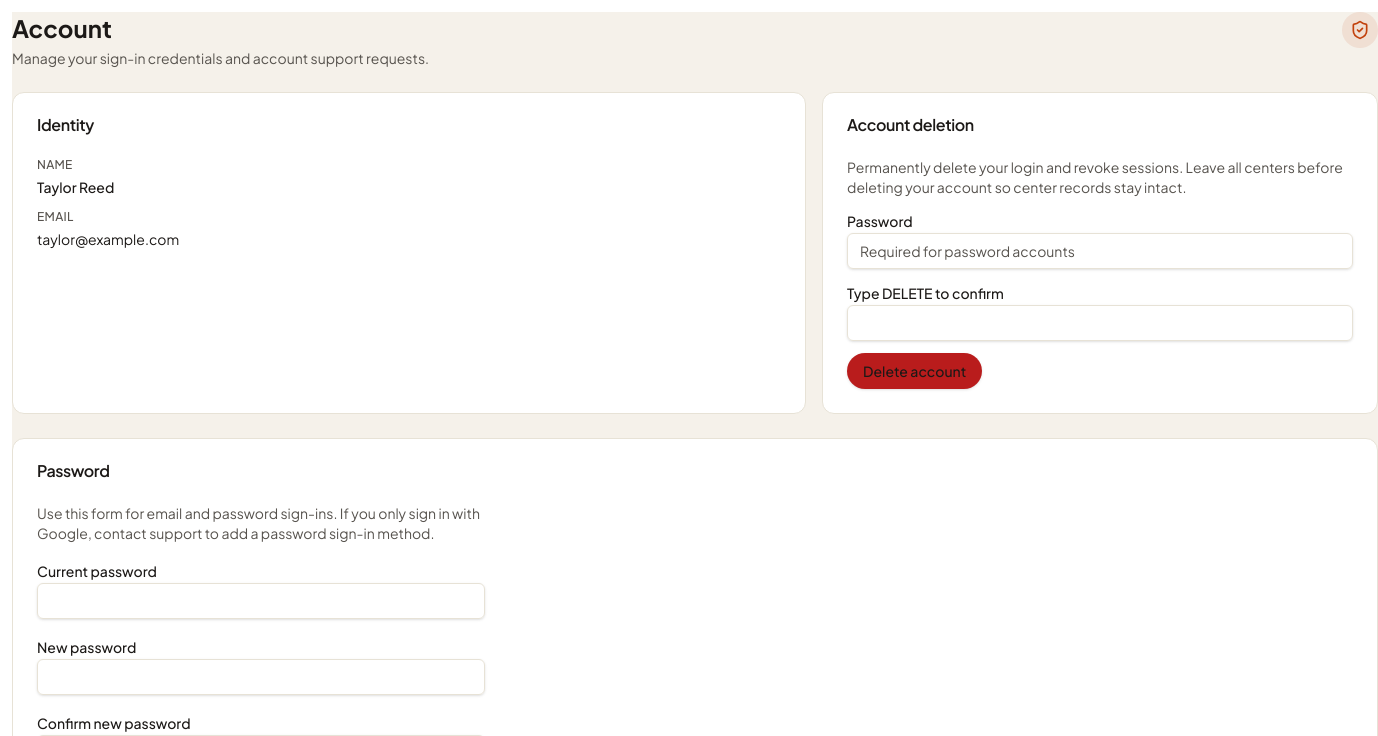
Test: AccountPage › shows account deletion failures near the deletion form
The width and height of the screenshot is (1378, 736).
Step 1. Type "DELETE" into the field labelled "Type DELETE to confirm" → (1100, 323), box [847,305,1353,341]
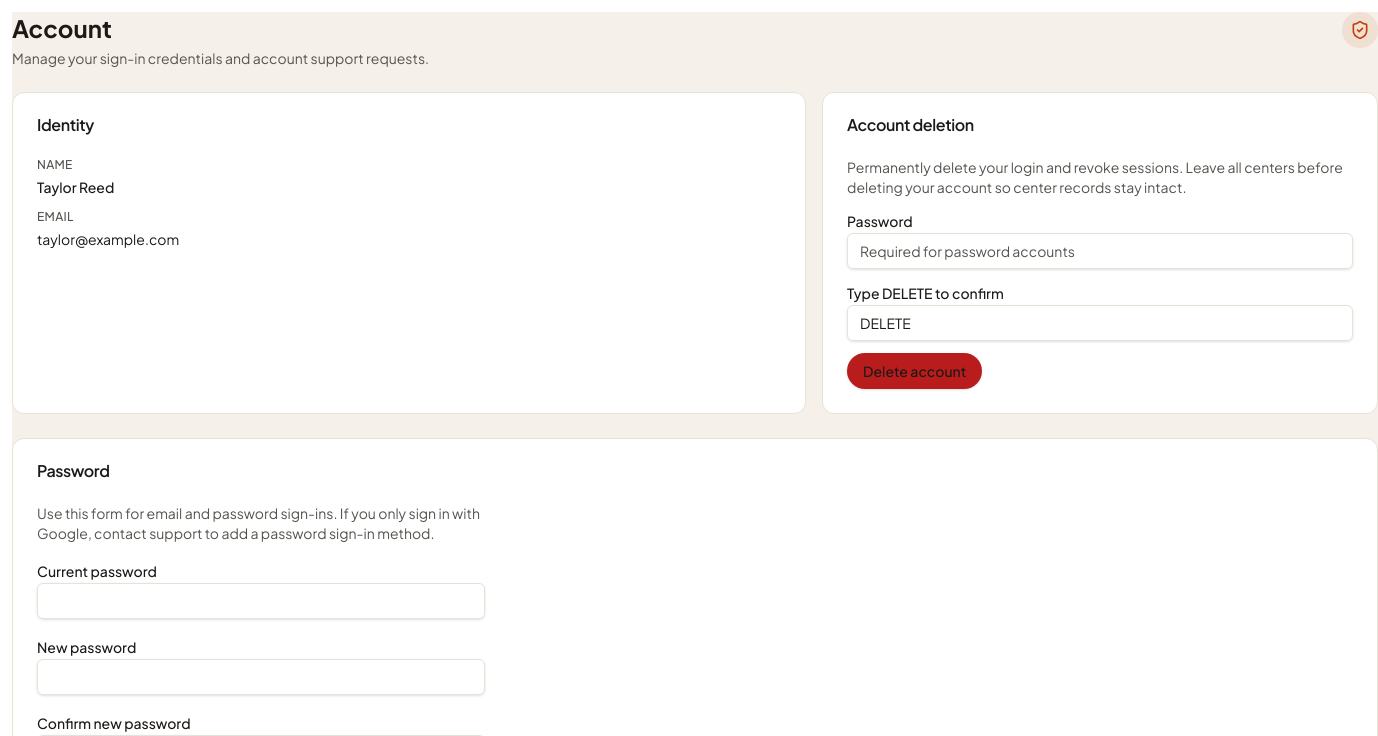
Step 2. Click the button "Delete account" → (915, 371), box [847,353,982,389]
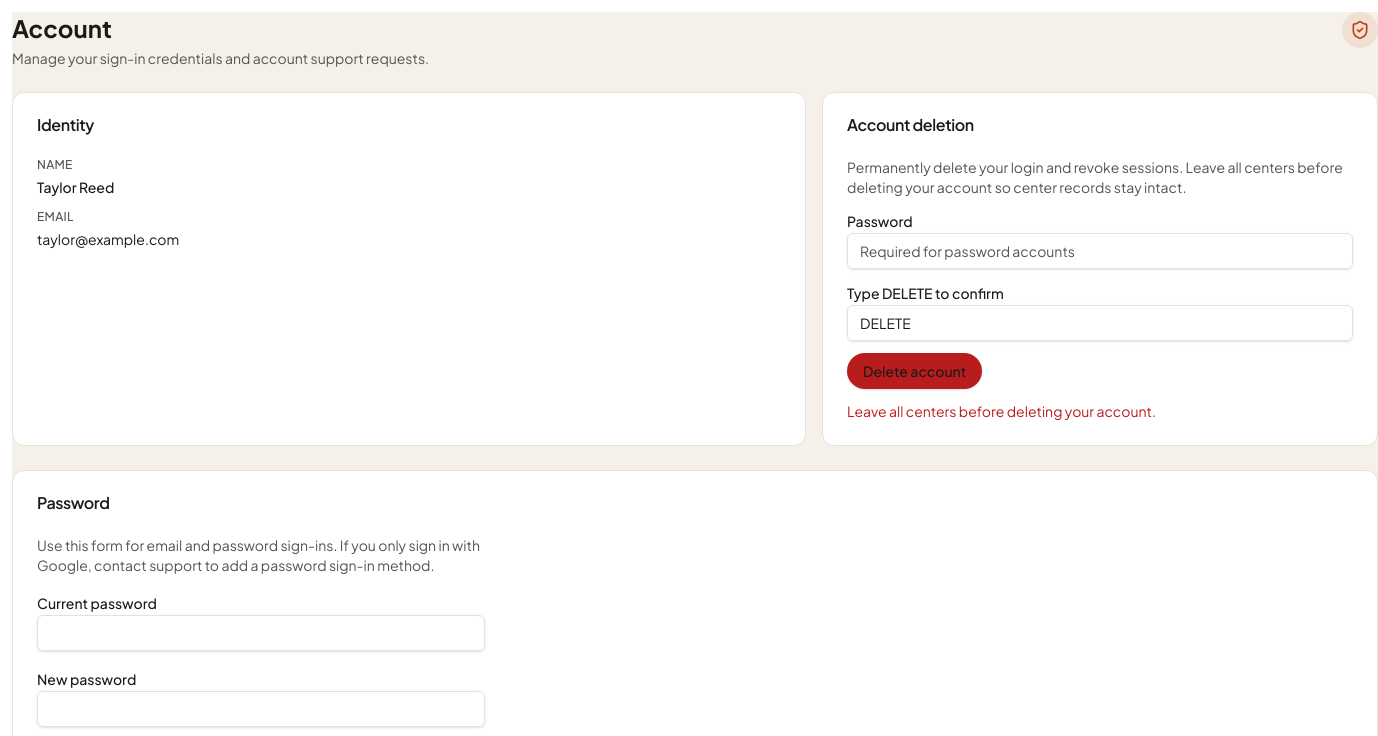
Check: the form named "Type DELETE to confirm" shows "Leave all centers before deleting your account.", box [847,402,1156,420]
Check: the text "Leave all centers before deleting your account." is shown, box [847,402,1156,420]
